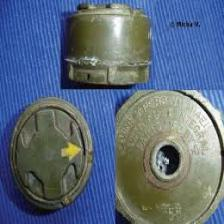M14: (117, 89, 224, 224), (10, 98, 93, 212), (66, 3, 151, 86)
